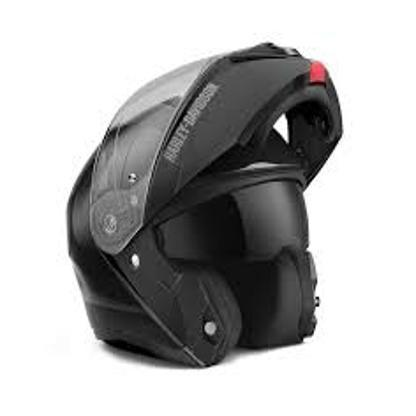not trash: (68, 40, 346, 366)
